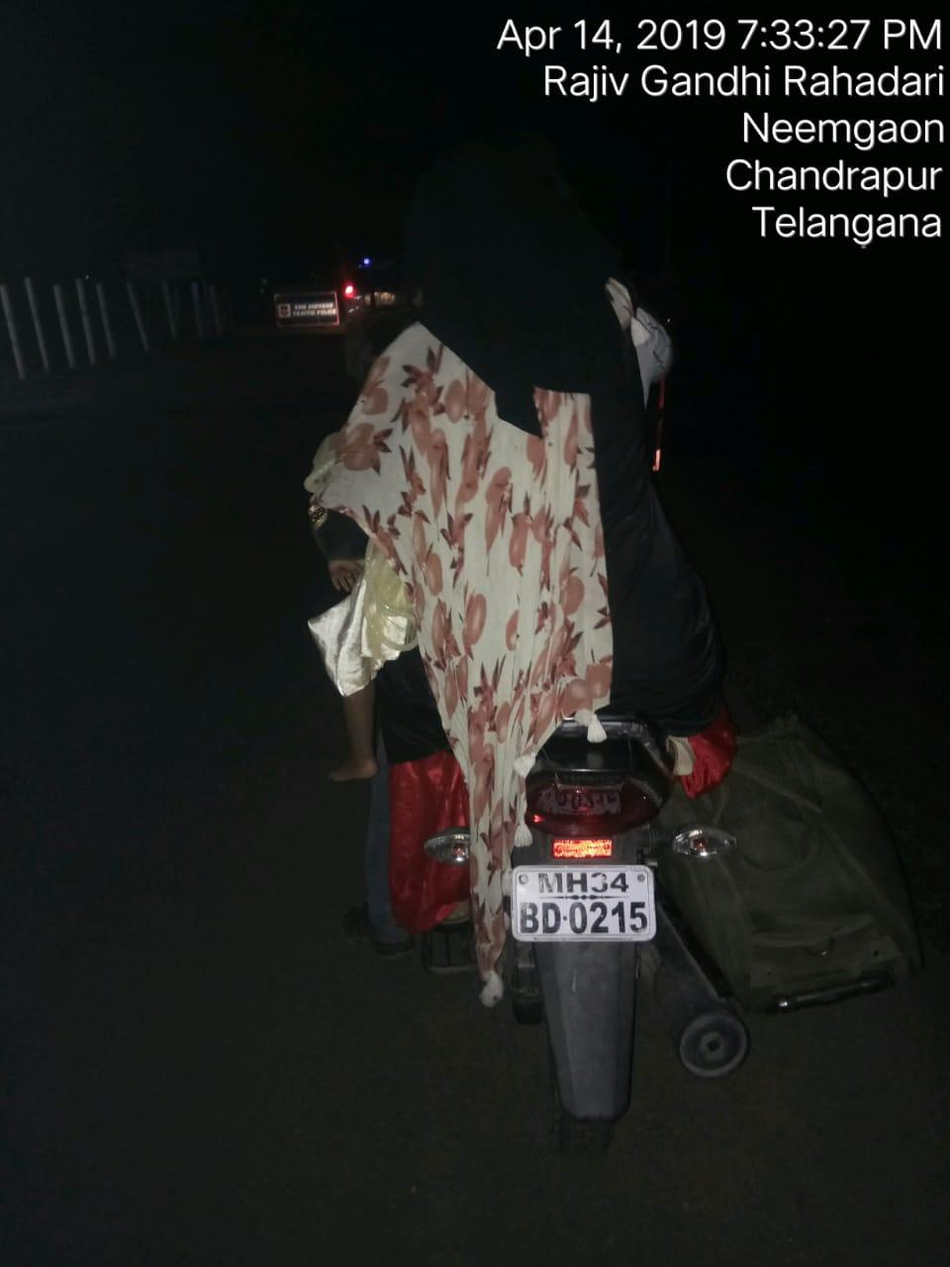without_helmet: (289, 71, 812, 1184)
